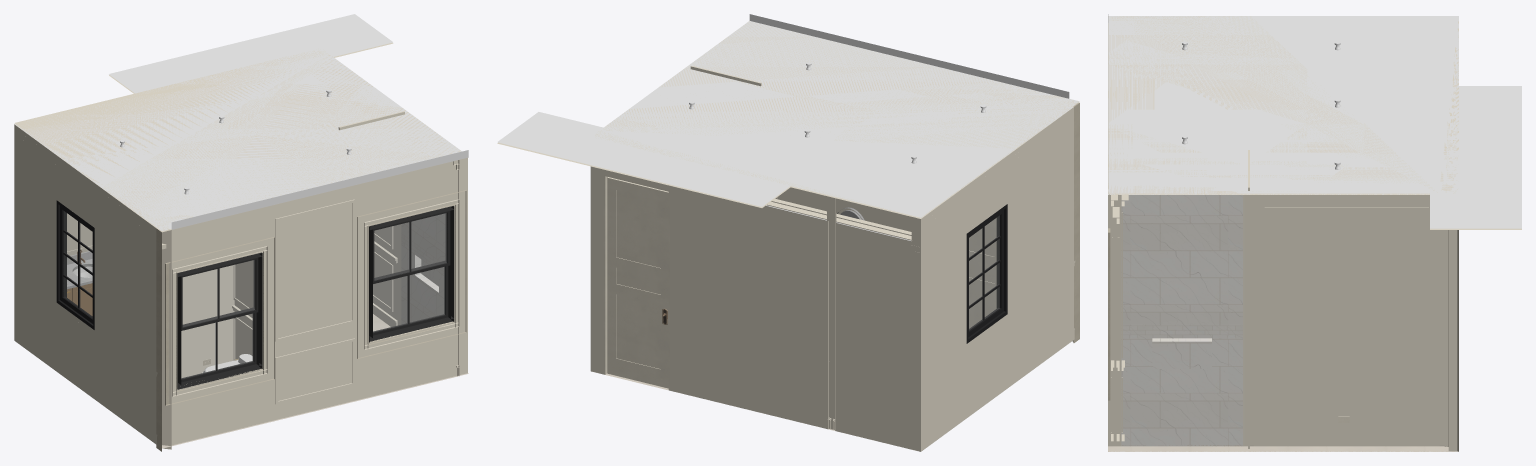
The model's file is primary-bath-56dc2b988d5b.glb.
3 renders of one model, left to right at view 1: azimuth 30°, elevation 25°; view 2: azimuth 150°, elevation 25°; view 3: azimuth 270°, elevation 25°, orthographic. The views are drawn at different scales.
Parts seen in each view (by area): view 1: primary-bath-9d91b47435c6fb33, primary-bath-b0ade14315e4f1c3, primary-bath-c51ecd664a3b22a3, primary-bath-e8793759323e04f0, primary-bath-60f0db96f832035a, primary-bath-b5cb73c07919def8, primary-bath-look-9d91b47435c6fb33, primary-bath-10eba734bfa580f9, primary-bath-20932135983111ad, primary-bath-62353aa10fc57f23, primary-bath-696f63e7cd8f31cf, primary-bath-2bc0761cc32b9613 (+9 smaller); view 2: primary-bath-9ecc0d558be1c706, primary-bath-9d91b47435c6fb33, primary-bath-c51ecd664a3b22a3, primary-bath-e8793759323e04f0, primary-bath-18f70a4a9eda5dac, primary-bath-look-9d91b47435c6fb33, primary-bath-20932135983111ad, primary-bath-25ea03c5717987c5, primary-bath-e48b5483df8cacdb, primary-bath-b88ac105ef7c3bdb, primary-bath-62353aa10fc57f23, primary-bath-1a6c50e4c3accb7b (+2 smaller); view 3: primary-bath-9d91b47435c6fb33, primary-bath-fc6585fecfaf7ec3, primary-bath-e8793759323e04f0, primary-bath-3d8660a29b1e398e, primary-bath-2bc0761cc32b9613, primary-bath-look-9d91b47435c6fb33, primary-bath-c791a0f218fead78, primary-bath-9ecc0d558be1c706, primary-bath-343da8f45fc39332, primary-bath-b3921aced1f99593, primary-bath-b3dc771ed6f89851, primary-bath-38b306e83be12a4b (+8 smaller).
Boxes of the visible parts, <box> form: primary-bath-9d91b47435c6fb33: <box>18,48,468,232</box>; primary-bath-b0ade14315e4f1c3: <box>171,157,467,445</box>; primary-bath-c51ecd664a3b22a3: <box>14,124,156,444</box>; primary-bath-e8793759323e04f0: <box>14,51,468,229</box>; primary-bath-60f0db96f832035a: <box>177,252,262,389</box>; primary-bath-b5cb73c07919def8: <box>369,206,454,342</box>; primary-bath-look-9d91b47435c6fb33: <box>109,14,393,93</box>; primary-bath-10eba734bfa580f9: <box>184,265,234,377</box>; primary-bath-20932135983111ad: <box>56,200,94,329</box>; primary-bath-62353aa10fc57f23: <box>156,228,171,451</box>; primary-bath-696f63e7cd8f31cf: <box>172,246,267,396</box>; primary-bath-2bc0761cc32b9613: <box>401,244,444,324</box>; primary-bath-9ecc0d558be1c706: <box>590,166,919,451</box>; primary-bath-9d91b47435c6fb33: <box>591,21,1079,218</box>; primary-bath-c51ecd664a3b22a3: <box>911,107,1073,451</box>; primary-bath-e8793759323e04f0: <box>595,14,1077,210</box>; primary-bath-18f70a4a9eda5dac: <box>607,177,668,388</box>; primary-bath-look-9d91b47435c6fb33: <box>497,112,790,207</box>; primary-bath-20932135983111ad: <box>966,204,1007,343</box>; primary-bath-25ea03c5717987c5: <box>969,218,996,328</box>; primary-bath-e48b5483df8cacdb: <box>827,196,836,430</box>; primary-bath-b88ac105ef7c3bdb: <box>603,174,669,390</box>; primary-bath-62353aa10fc57f23: <box>1072,103,1079,342</box>; primary-bath-1a6c50e4c3accb7b: <box>777,187,879,224</box>; primary-bath-9d91b47435c6fb33: <box>1108,16,1458,194</box>; primary-bath-fc6585fecfaf7ec3: <box>1248,193,1458,451</box>; primary-bath-e8793759323e04f0: <box>1108,14,1458,193</box>; primary-bath-3d8660a29b1e398e: <box>1121,195,1242,324</box>; primary-bath-2bc0761cc32b9613: <box>1121,338,1242,446</box>; primary-bath-look-9d91b47435c6fb33: <box>1430,86,1521,229</box>; primary-bath-c791a0f218fead78: <box>1108,189,1247,451</box>; primary-bath-9ecc0d558be1c706: <box>1447,230,1458,451</box>; primary-bath-343da8f45fc39332: <box>1253,434,1439,446</box>; primary-bath-b3921aced1f99593: <box>1108,446,1457,451</box>; primary-bath-b3dc771ed6f89851: <box>1264,207,1428,352</box>; primary-bath-38b306e83be12a4b: <box>1121,324,1242,338</box>.
Size of the model in its own units: 5.14 by 3.04 by 4.23.
Materials: 37 (8 with a texture image).
